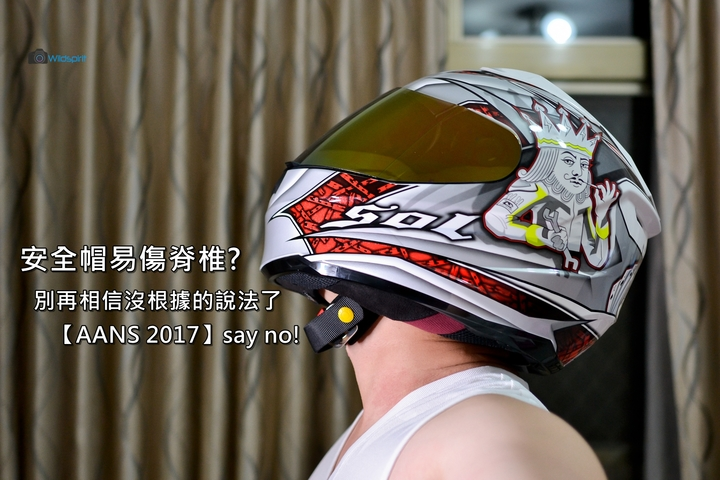helmet: (287, 62, 658, 358)
